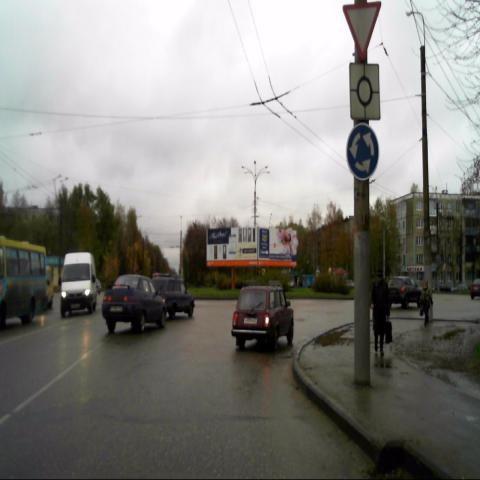4_3: (346, 123, 381, 184)
8_13_1: (349, 62, 381, 124)
